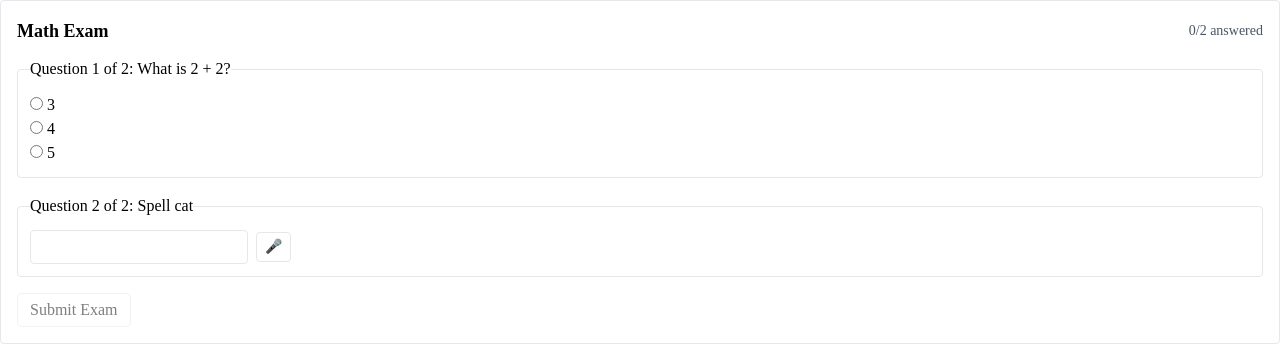
Test case: Exam › disables submit until every question is answered
This screenshot has width=1280, height=361.
Expected: the button "Submit Exam" is disabled, [17,293,131,327]
Click the radio button labelled "4". click: (36, 128)
box: [30,121,43,134]
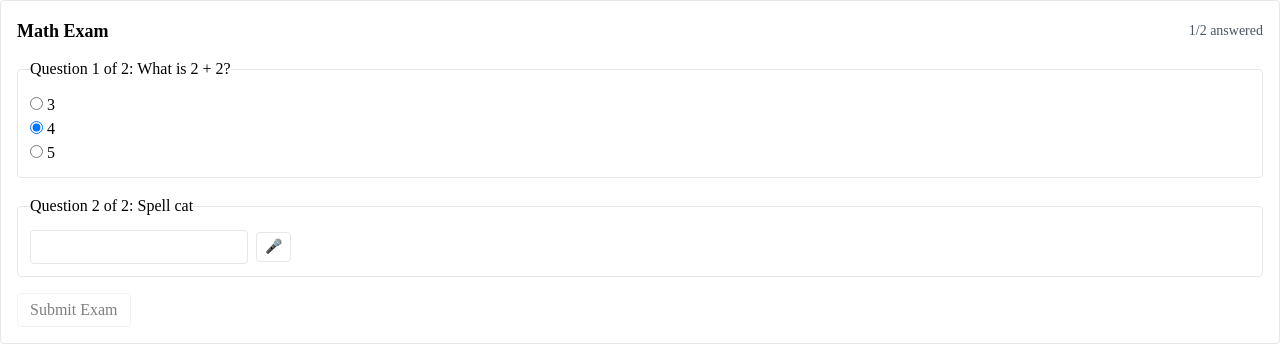
Expected: the button "Submit Exam" is disabled, [17,293,131,327]
Type "cat" into the field named "Spell cat". click: (139, 247)
box: [30,230,248,264]
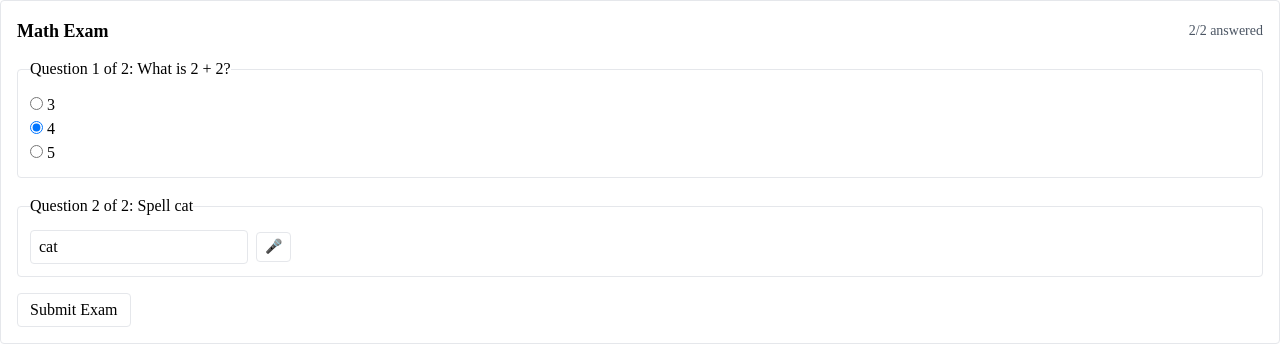
Expected: the button "Submit Exam" is enabled, [17,293,131,327]
